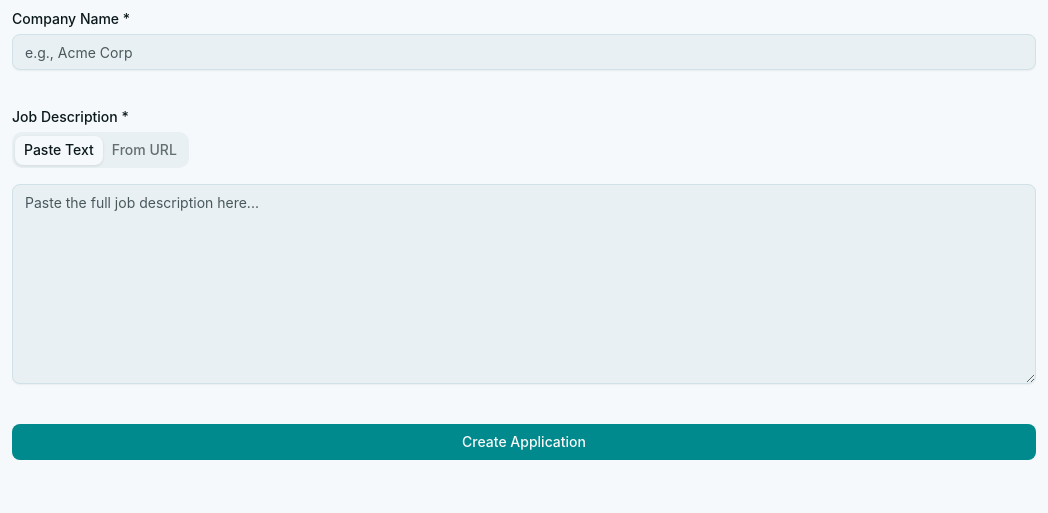
JobInputForm › URL mode › switches between paste and URL modes
The width and height of the screenshot is (1048, 513).
Click the tab "From URL". click: (144, 150)
box: [103, 136, 186, 164]
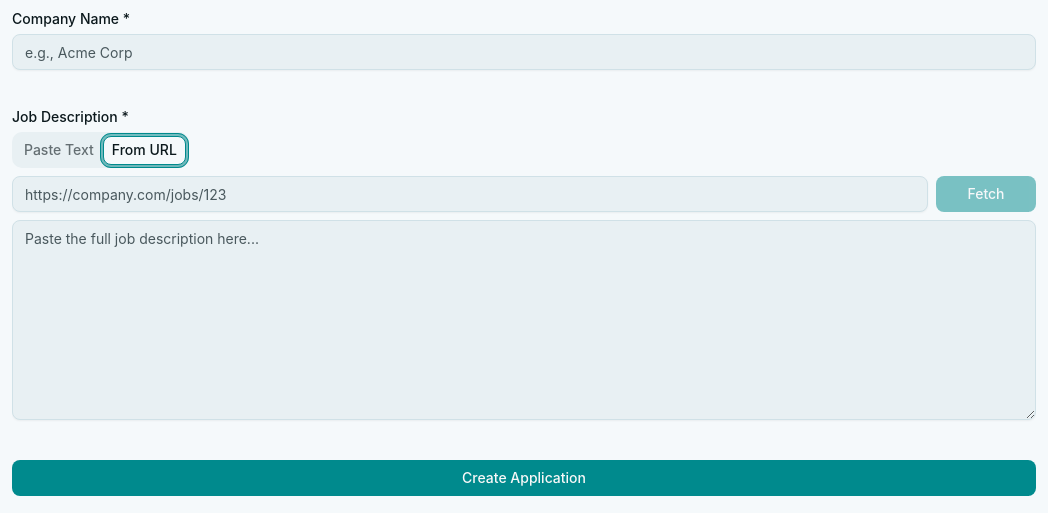
Expected: the field with placeholder "https://company.com/jobs/123" is shown, [12, 176, 928, 212]
